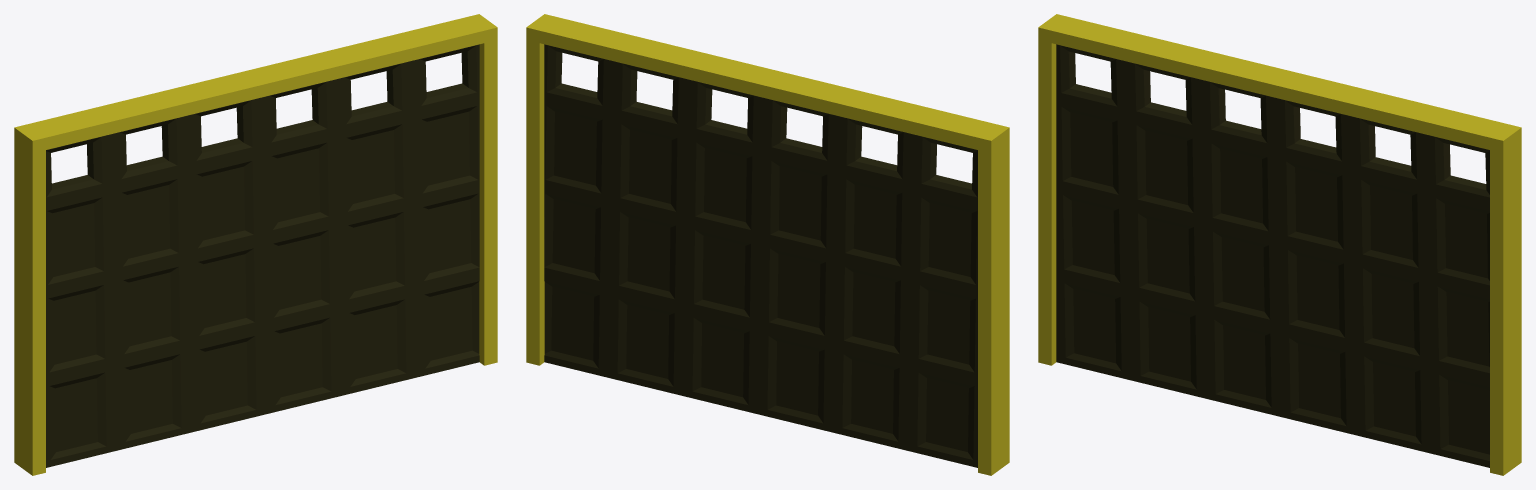
Rendered from Portão.fbx.
The picture shows the model from 3 angles, left to right: view 1: azimuth 30°, elevation 25°; view 2: azimuth 150°, elevation 25°; view 3: azimuth 330°, elevation 25°; orthographic projection.
Parts seen in each view (by area): view 1: Portão; view 2: Portão; view 3: Portão.
Boxes of the visible parts, left/top/right/bottom form: Portão: left=14, top=14, right=497, bottom=475; Portão: left=526, top=14, right=1009, bottom=475; Portão: left=1038, top=14, right=1521, bottom=475.
Bounding box in the file's own units: 357 × 246 × 24.46.
